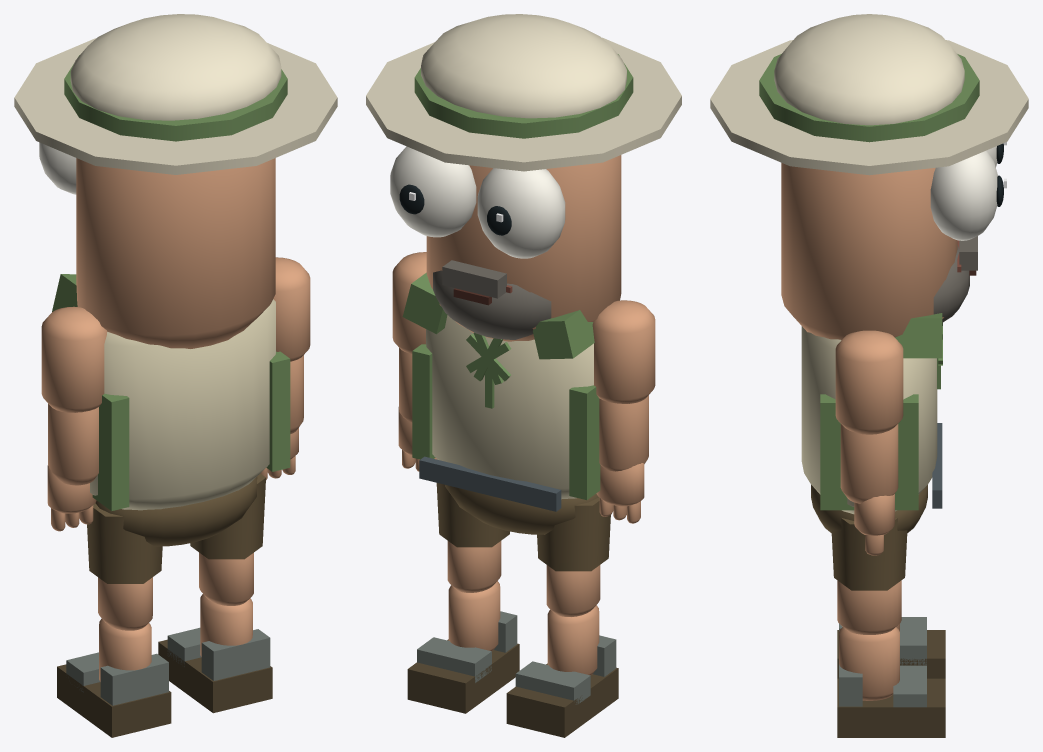
Rendered from spectator_8.glb.
3 renders of one model, left to right at view 1: azimuth 30°, elevation 25°; view 2: azimuth 150°, elevation 25°; view 3: azimuth 270°, elevation 25°, orthographic. The views are drawn at different scales.
Parts seen in each view (by area): view 1: Head, RallySpectator, LeftShin, RightShin, LeftLeg, LeftArm, LeftForearm, RightLeg, RightArm, RightForearm; view 2: Head, RallySpectator, LeftShin, RightShin, LeftLeg, LeftArm, LeftForearm, RightLeg, RightArm, RightForearm; view 3: Head, RallySpectator, RightShin, RightLeg, RightArm, RightForearm, LeftShin.
Part boxes in pixels (left/top/right/bottom): Head: left=14, top=14, right=337, bottom=348; RallySpectator: left=52, top=274, right=290, bottom=546; LeftShin: left=57, top=618, right=171, bottom=737; RightShin: left=158, top=594, right=272, bottom=713; LeftLeg: left=87, top=503, right=162, bottom=630; LeftArm: left=41, top=306, right=107, bottom=412; LeftForearm: left=47, top=403, right=98, bottom=531; RightLeg: left=190, top=473, right=265, bottom=605; RightArm: left=273, top=257, right=310, bottom=361; RightForearm: left=260, top=355, right=303, bottom=479; Head: left=366, top=14, right=681, bottom=341; RallySpectator: left=402, top=272, right=600, bottom=534; LeftShin: left=506, top=605, right=618, bottom=737; RightShin: left=407, top=581, right=519, bottom=713; LeftLeg: left=537, top=497, right=610, bottom=616; LeftArm: left=592, top=300, right=655, bottom=403; LeftForearm: left=596, top=395, right=648, bottom=523; RightLeg: left=436, top=483, right=509, bottom=592; RightArm: left=392, top=252, right=426, bottom=353; RightForearm: left=398, top=348, right=437, bottom=471; Head: left=710, top=14, right=1028, bottom=339; RallySpectator: left=801, top=313, right=942, bottom=532; RightShin: left=837, top=627, right=945, bottom=737; RightLeg: left=831, top=518, right=907, bottom=634; RightArm: left=835, top=330, right=903, bottom=434; RightForearm: left=840, top=424, right=898, bottom=555; LeftShin: left=837, top=617, right=945, bottom=678.
Bounding box in the file's own units: 0.94 × 2.17 × 0.94.
